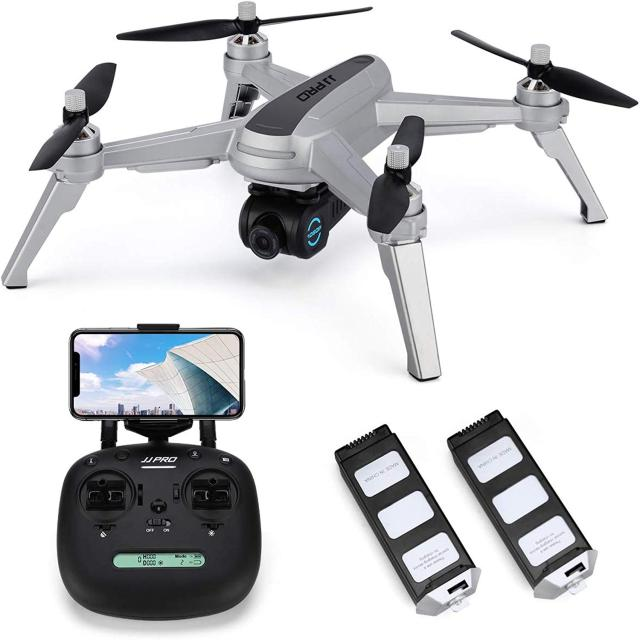drone: (10, 4, 637, 308)
